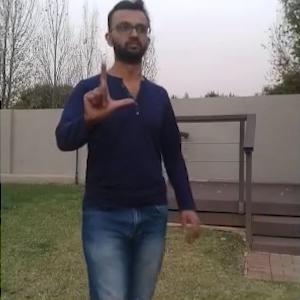land_hand: (81, 57, 135, 123)
